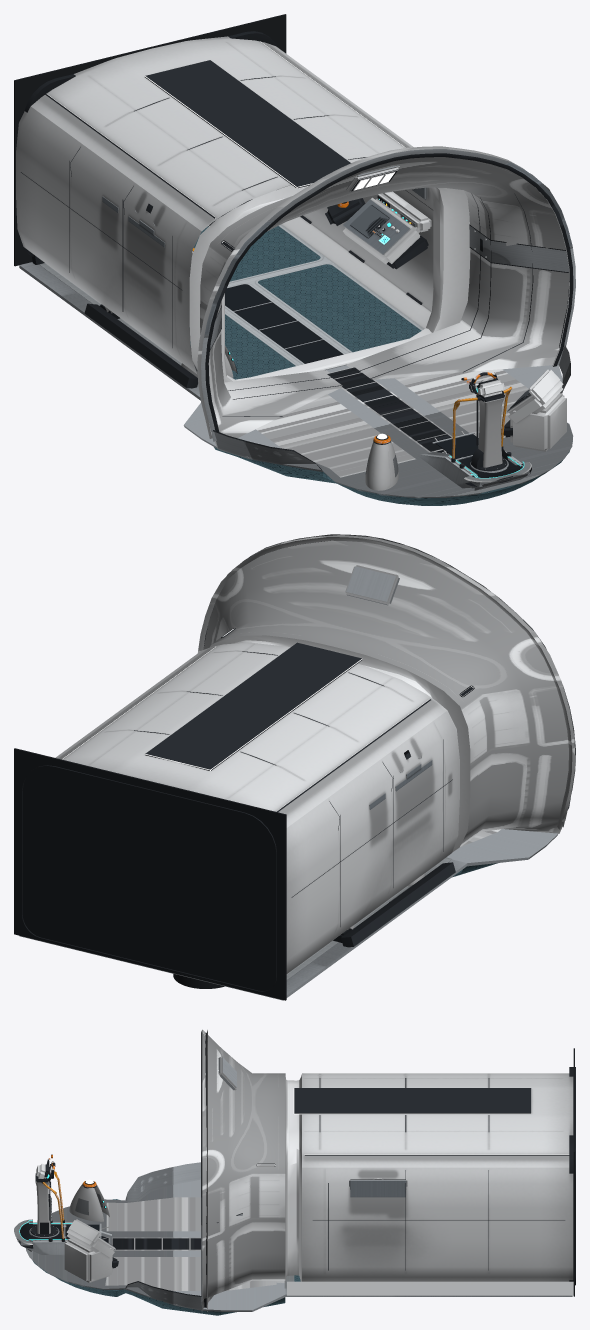
File: subnautica_hydra_submarine_anim_interior.glb
3 views of the same model, one above another, from view 1: azimuth 30°, elevation 25°; view 2: azimuth 150°, elevation 25°; view 3: azimuth 270°, elevation 25° (orthographic). The views are drawn at different scales.
Visible parts, largest first — view 1: interior_cabin_shell, interior_floor, interior_ceiling_lights, interior_cockpit_frame, interior_cabin_right_station, interior_back_hatch, interior_cockpit_console_left, interior_pilot_pedestal, interior_pod_cockpit; view 2: interior_cabin_shell, interior_back_hatch, interior_ceiling_lights, interior_floor, interior_cockpit_frame; view 3: interior_cabin_shell, interior_floor, interior_ceiling_lights, interior_cockpit_console_left, interior_pilot_pedestal, interior_cockpit_frame, interior_pod_cockpit, interior_cabin_right_station, interior_back_hatch.
Boxes of the visible parts, box(x1,y1,x2,y2) form: interior_cabin_shell: box(16, 36, 570, 470); interior_floor: box(19, 215, 573, 505); interior_ceiling_lights: box(45, 41, 406, 226); interior_cockpit_frame: box(197, 146, 575, 441); interior_cabin_right_station: box(325, 187, 431, 269); interior_back_hatch: box(14, 14, 286, 266); interior_cockpit_console_left: box(503, 369, 566, 451); interior_pilot_pedestal: box(451, 372, 512, 472); interior_pod_cockpit: box(365, 433, 398, 490); interior_cabin_shell: box(55, 535, 575, 973); interior_back_hatch: box(14, 748, 286, 1000); interior_ceiling_lights: box(61, 642, 430, 812); interior_floor: box(19, 829, 557, 1000); interior_cockpit_frame: box(198, 534, 575, 829); interior_cabin_shell: box(125, 1029, 573, 1309); interior_floor: box(14, 1179, 573, 1315); interior_ceiling_lights: box(293, 1073, 569, 1155); interior_cockpit_console_left: box(64, 1219, 118, 1282); interior_pilot_pedestal: box(29, 1154, 64, 1241); interior_cockpit_frame: box(201, 1030, 236, 1311); interior_pod_cockpit: box(69, 1179, 109, 1221); interior_cabin_right_station: box(349, 1178, 407, 1197); interior_back_hatch: box(569, 1048, 575, 1296).
Bounding box in the file's own units: 4.89 × 3.68 × 8.12.
Materials: 16 (13 with a texture image).
